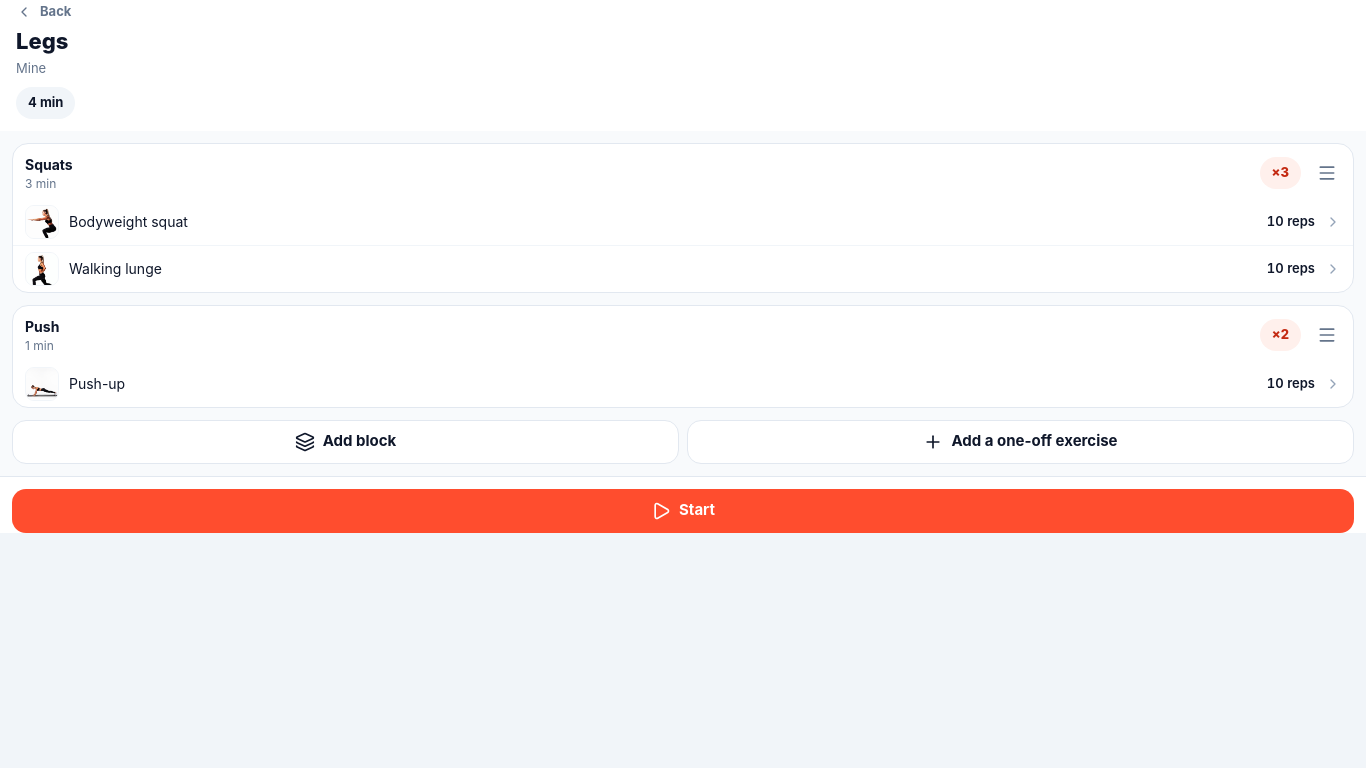
Test: the workout page reads plain; a tap on a block opens it for editing (Nick, 1 Nov 2026) › an open block's grip reorders the whole workout, not the one block
This screenshot has width=1366, height=768.
Click the button with aria-label "Edit Squats": (49, 173) [25, 156, 73, 190]
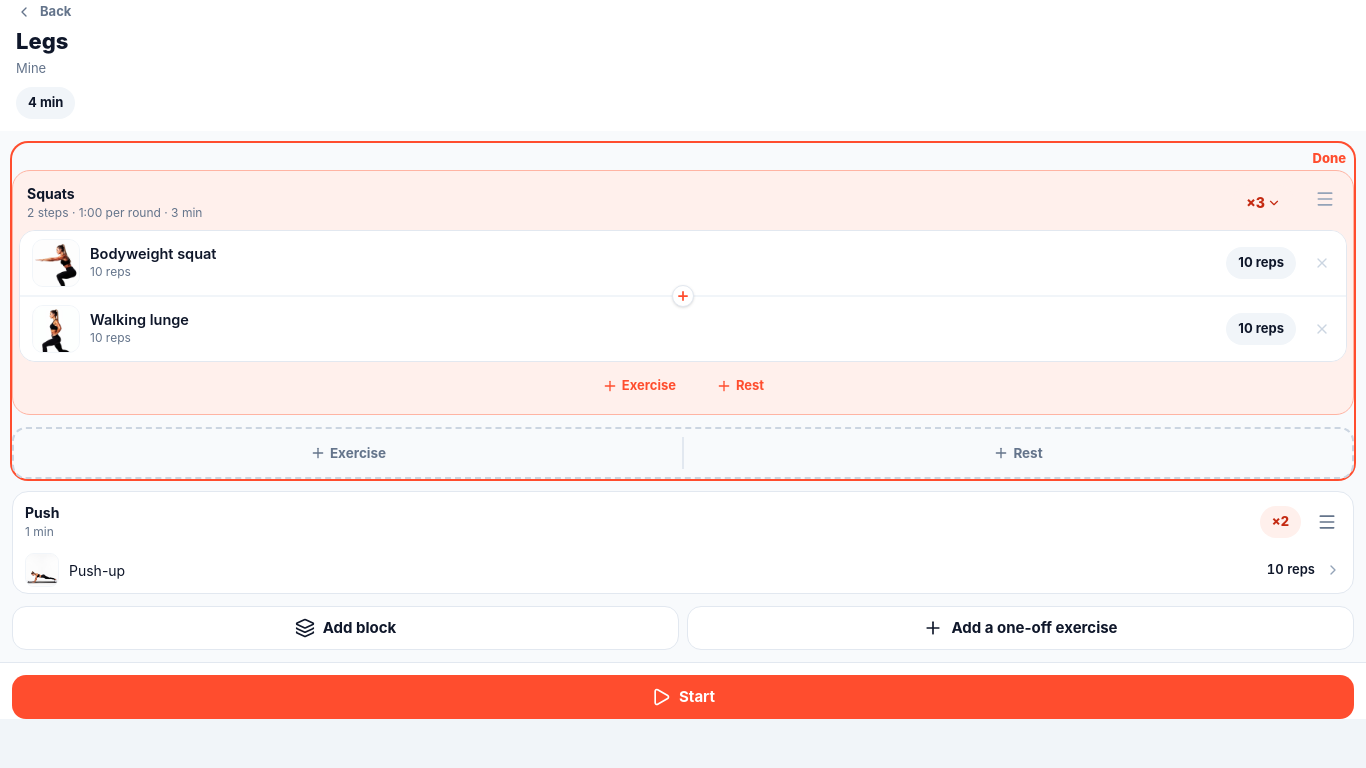
Click the 1st button with test id "block-grip": (1325, 199) [1303, 177, 1347, 221]
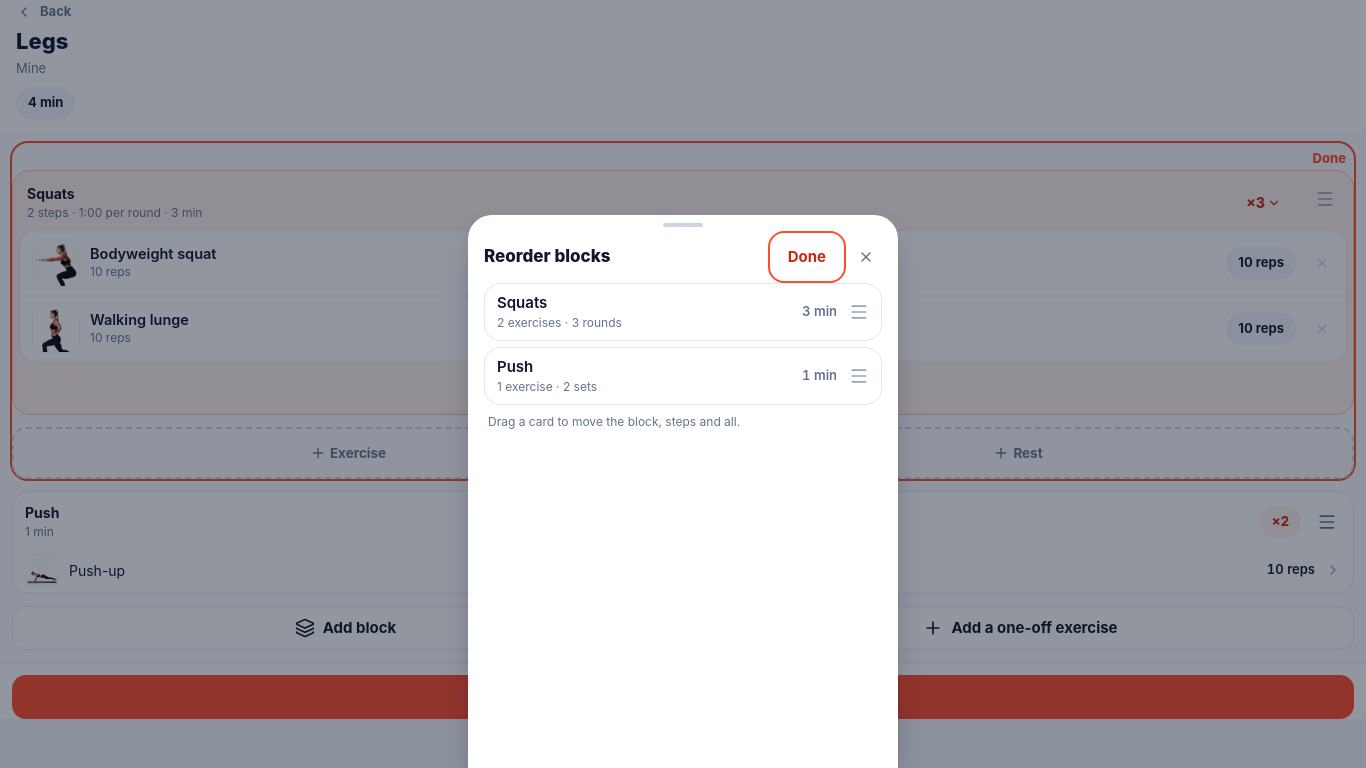
Expected: the text "Push" is shown, [497, 357, 533, 376]
